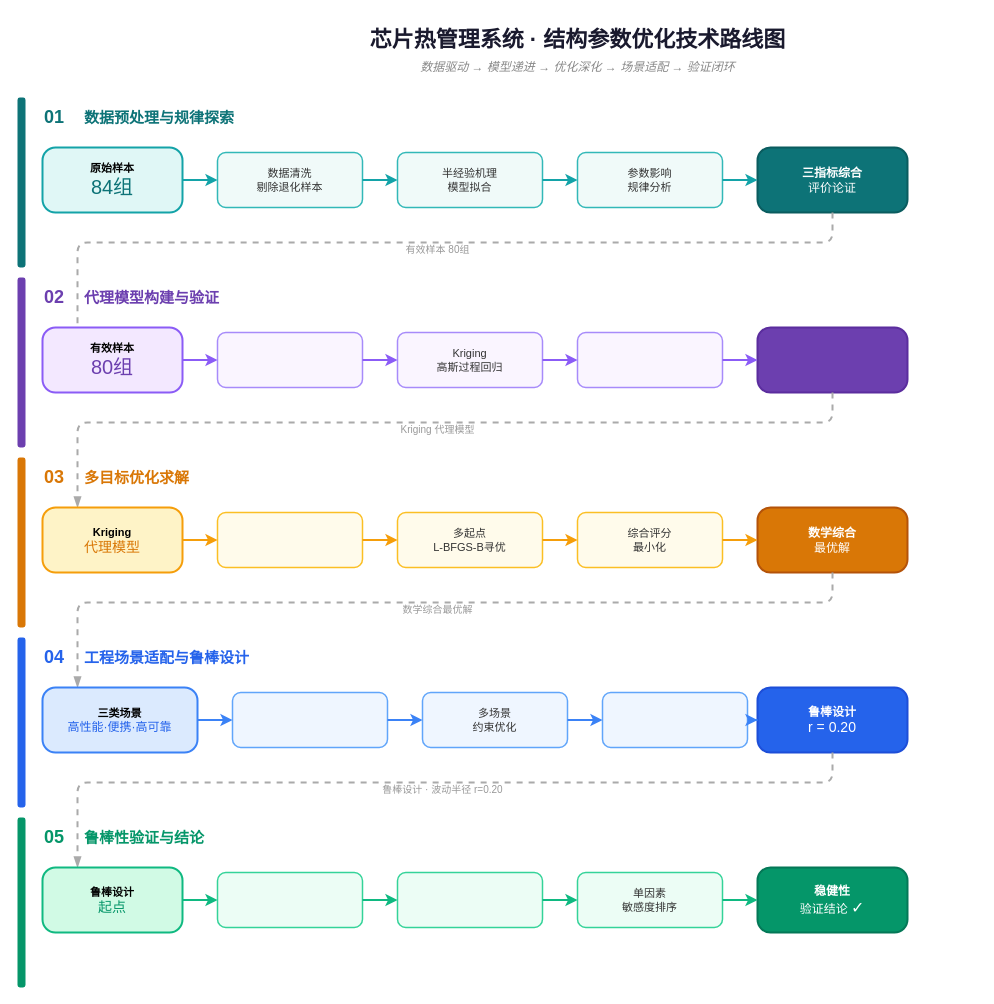
Image size: 994x1004. Some labels were removed from this diagram. The shapes that lost their labels are listed below. From the top down, each one's centre as x and y in pixels, then its label:
point (289, 359): 二阶多项式 响应面模型
point (649, 359): 五折交叉 验证评估
point (832, 359): Kriging 预测引擎
point (289, 539): 等权重 Min-Max归一化
point (309, 719): 权重敏感度 最大后悔值分析
point (674, 719): 工程鲁棒 推荐设计
point (289, 899): ±5%正态/均匀 参数扰动
point (469, 899): 10,000次 蒙特卡洛模拟
